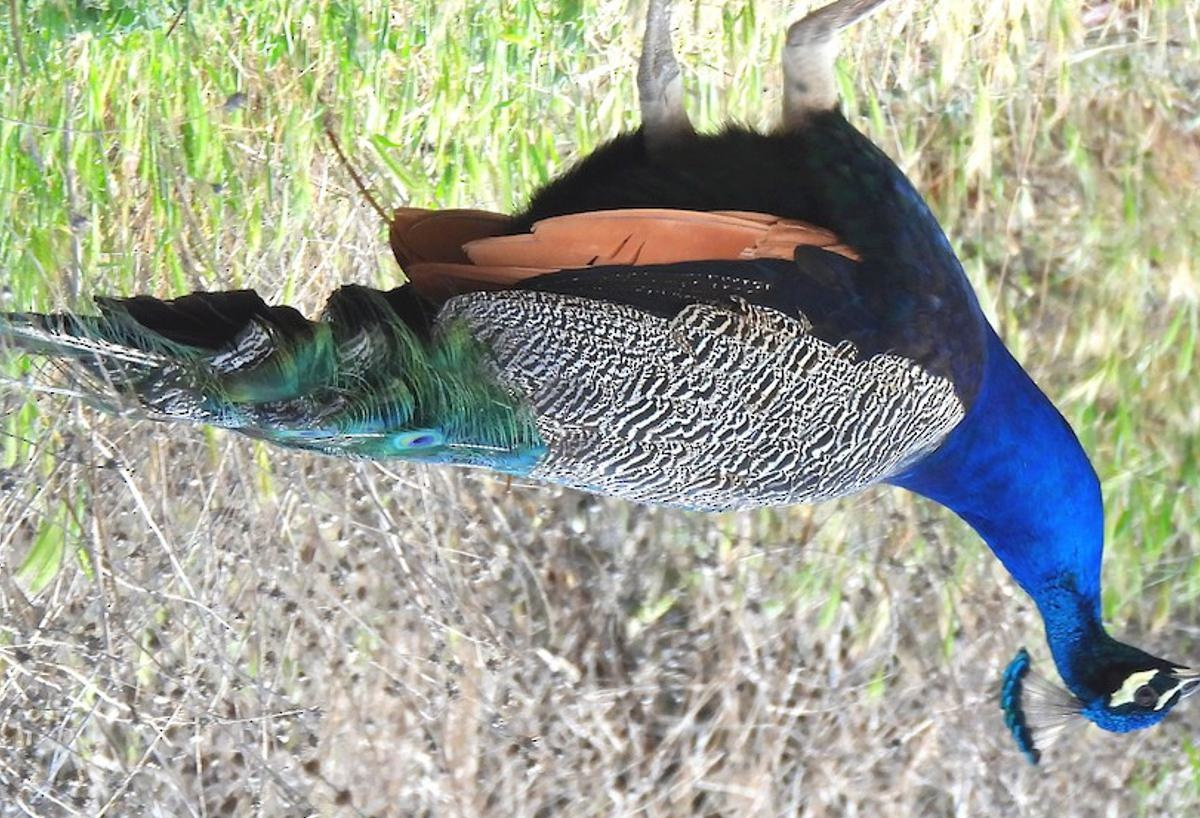peacock: (113, 85, 1195, 763)
